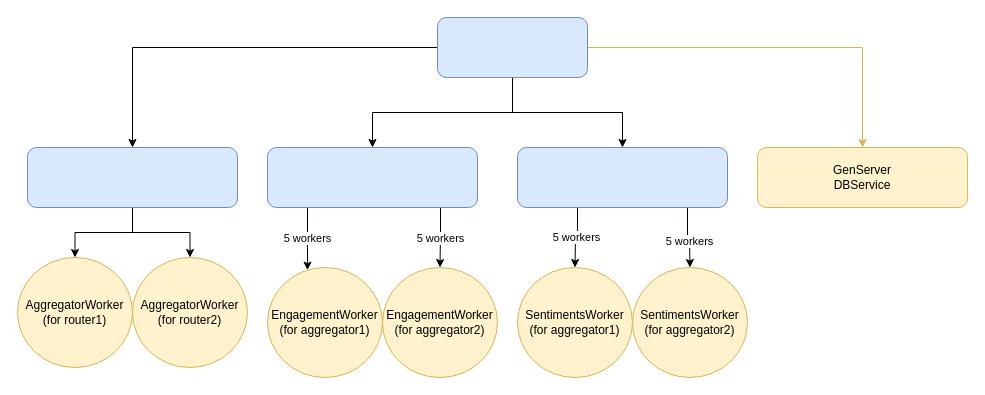
Image size: 985x395. Some labels were removed from this diagram. Each missing label, with the centre of its shape:
Application RTP_SSE.Supervisor: point 512,47
DynamicSupervisor AggregatorDynamicSupervisor: point 132,177
DynamicSupervisor EngagementWorkerSupervisor: point 372,177
DynamicSupervisor SentimentWorkerSupervisor: point 622,177
